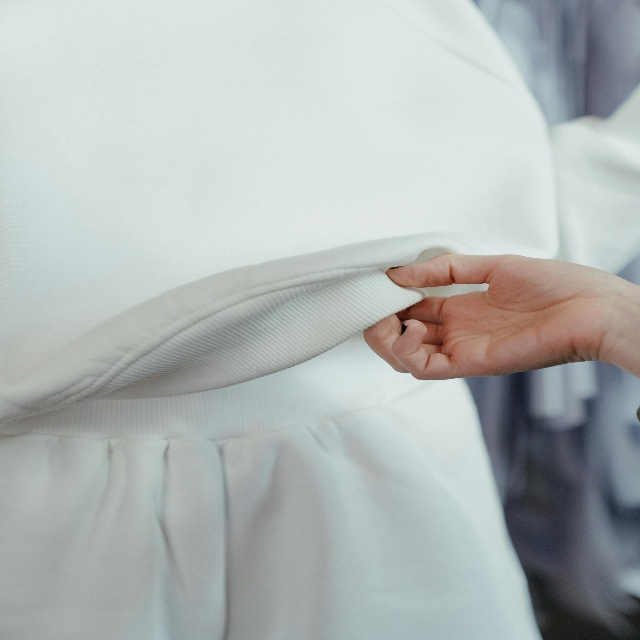Sin_guantes: (363, 252, 614, 381)
